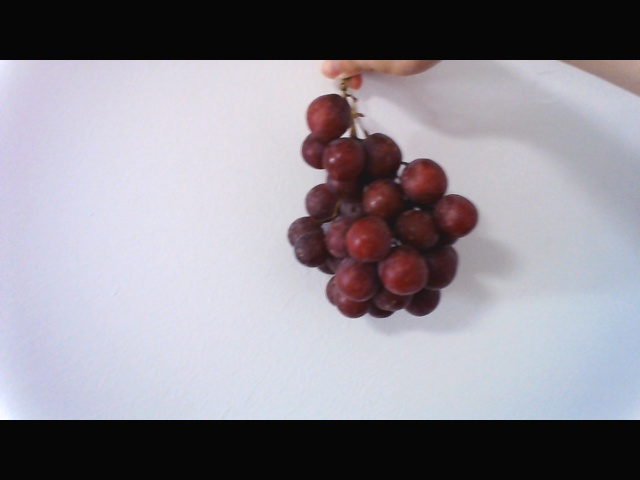grape: (275, 81, 484, 330)
